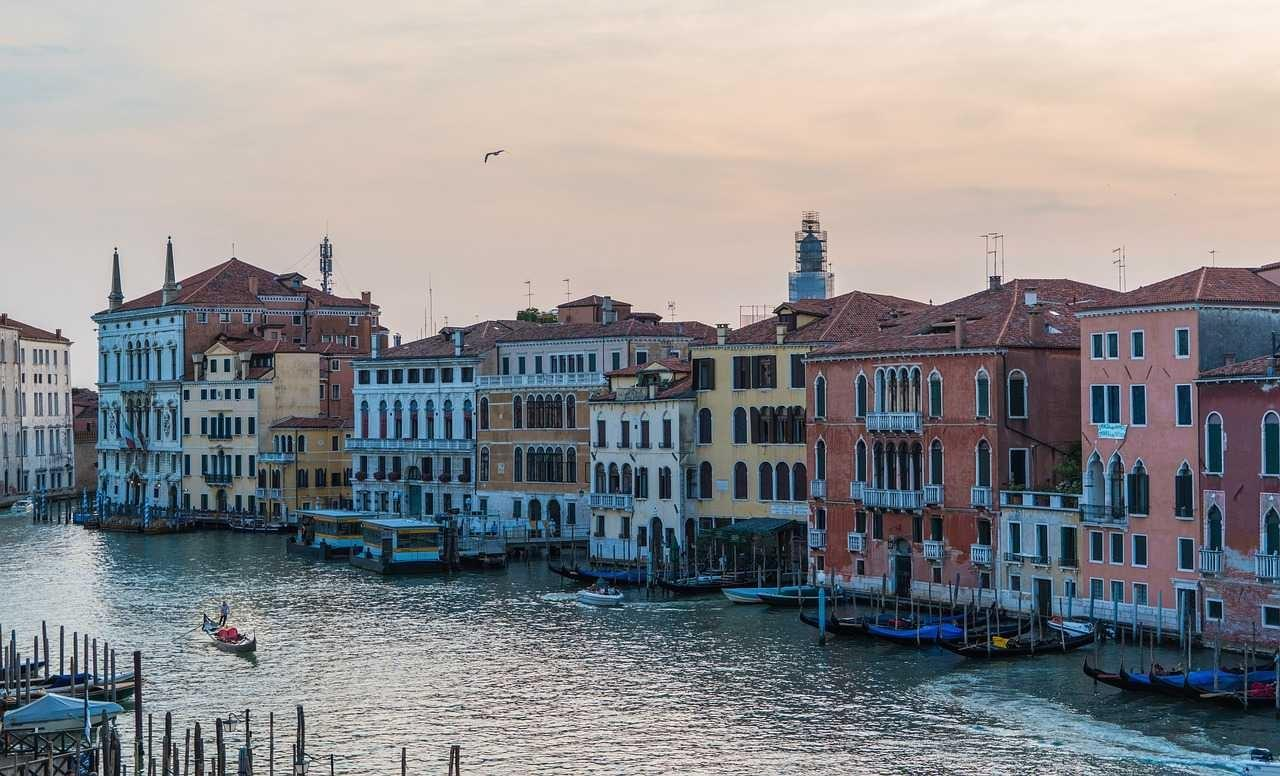kayak: (1082, 662, 1277, 703), (350, 514, 449, 574), (286, 511, 367, 560), (1016, 620, 1095, 654), (194, 616, 256, 654), (866, 620, 964, 644), (723, 584, 821, 606), (952, 635, 1017, 659), (807, 610, 869, 635), (660, 573, 726, 594), (577, 580, 626, 606)
